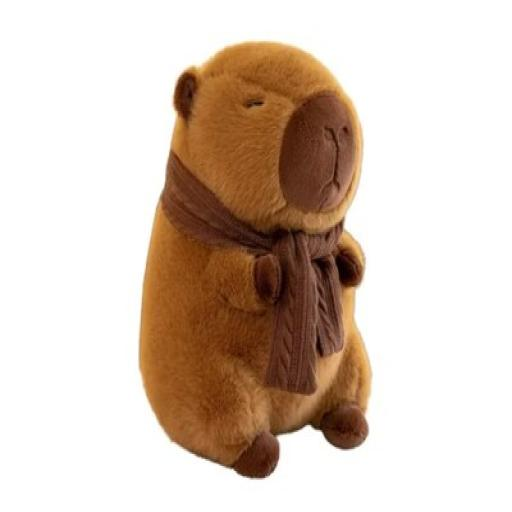capibara: (145, 4, 388, 478)
